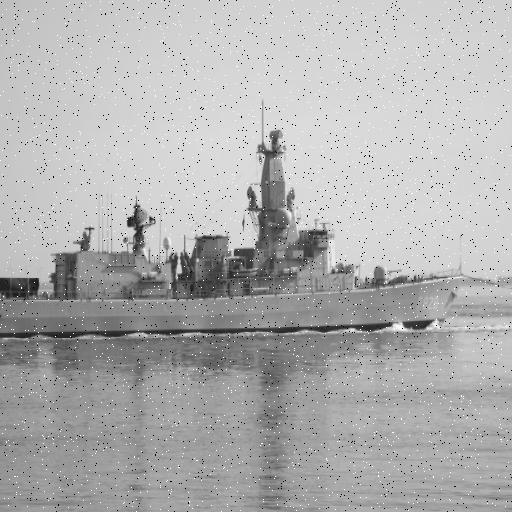Fragata: (1, 95, 468, 350)
